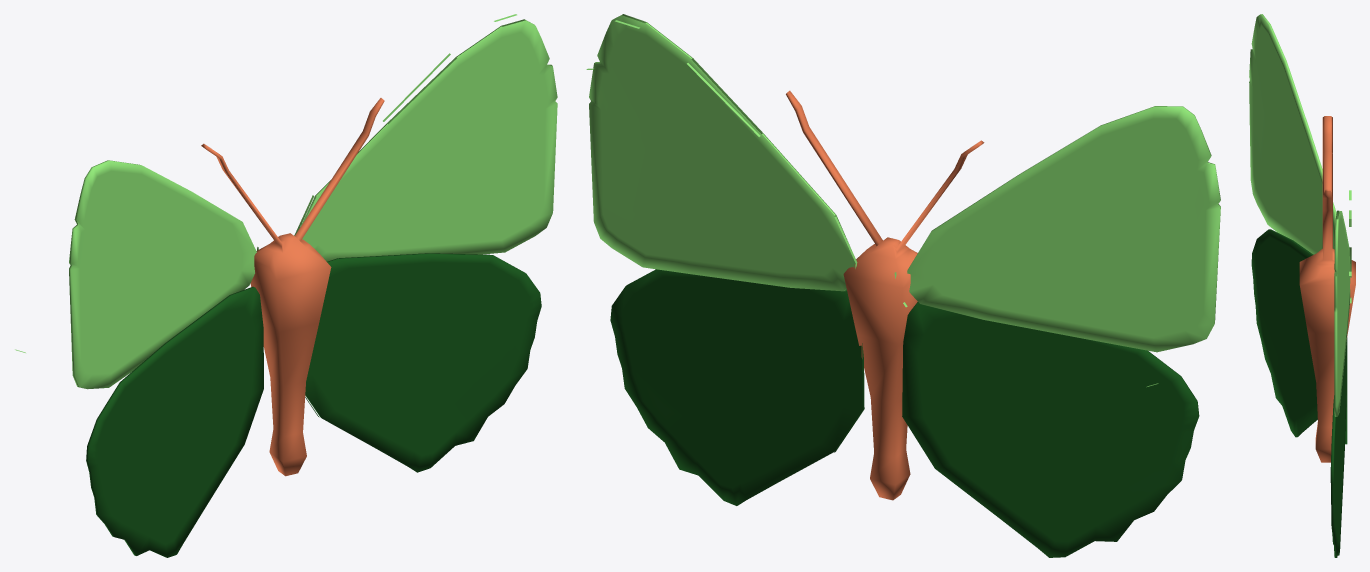
Rendered from Green_Butterfly-anim.fbx.
3 views of the same model, side by side, from view 1: azimuth 30°, elevation 25°; view 2: azimuth 150°, elevation 25°; view 3: azimuth 270°, elevation 25° (orthographic). The views are drawn at different scales.
Visible parts, largest first — view 1: Cube.002, Cube.001, Cube; view 2: Cube.001, Cube.002, Cube; view 3: Cube.001, Cube, Cube.002.
Part boxes in pixels (x1,y1,x2,y2): Cube.002: [300, 19, 557, 472]; Cube.001: [69, 160, 263, 557]; Cube: [15, 14, 516, 476]; Cube.001: [902, 106, 1220, 557]; Cube.002: [589, 14, 862, 505]; Cube: [586, 20, 1158, 500]; Cube.001: [1249, 14, 1336, 437]; Cube: [1299, 116, 1355, 462]; Cube.002: [1330, 210, 1350, 557].
Size of the model in its own units: 412 by 315 by 80.23.
